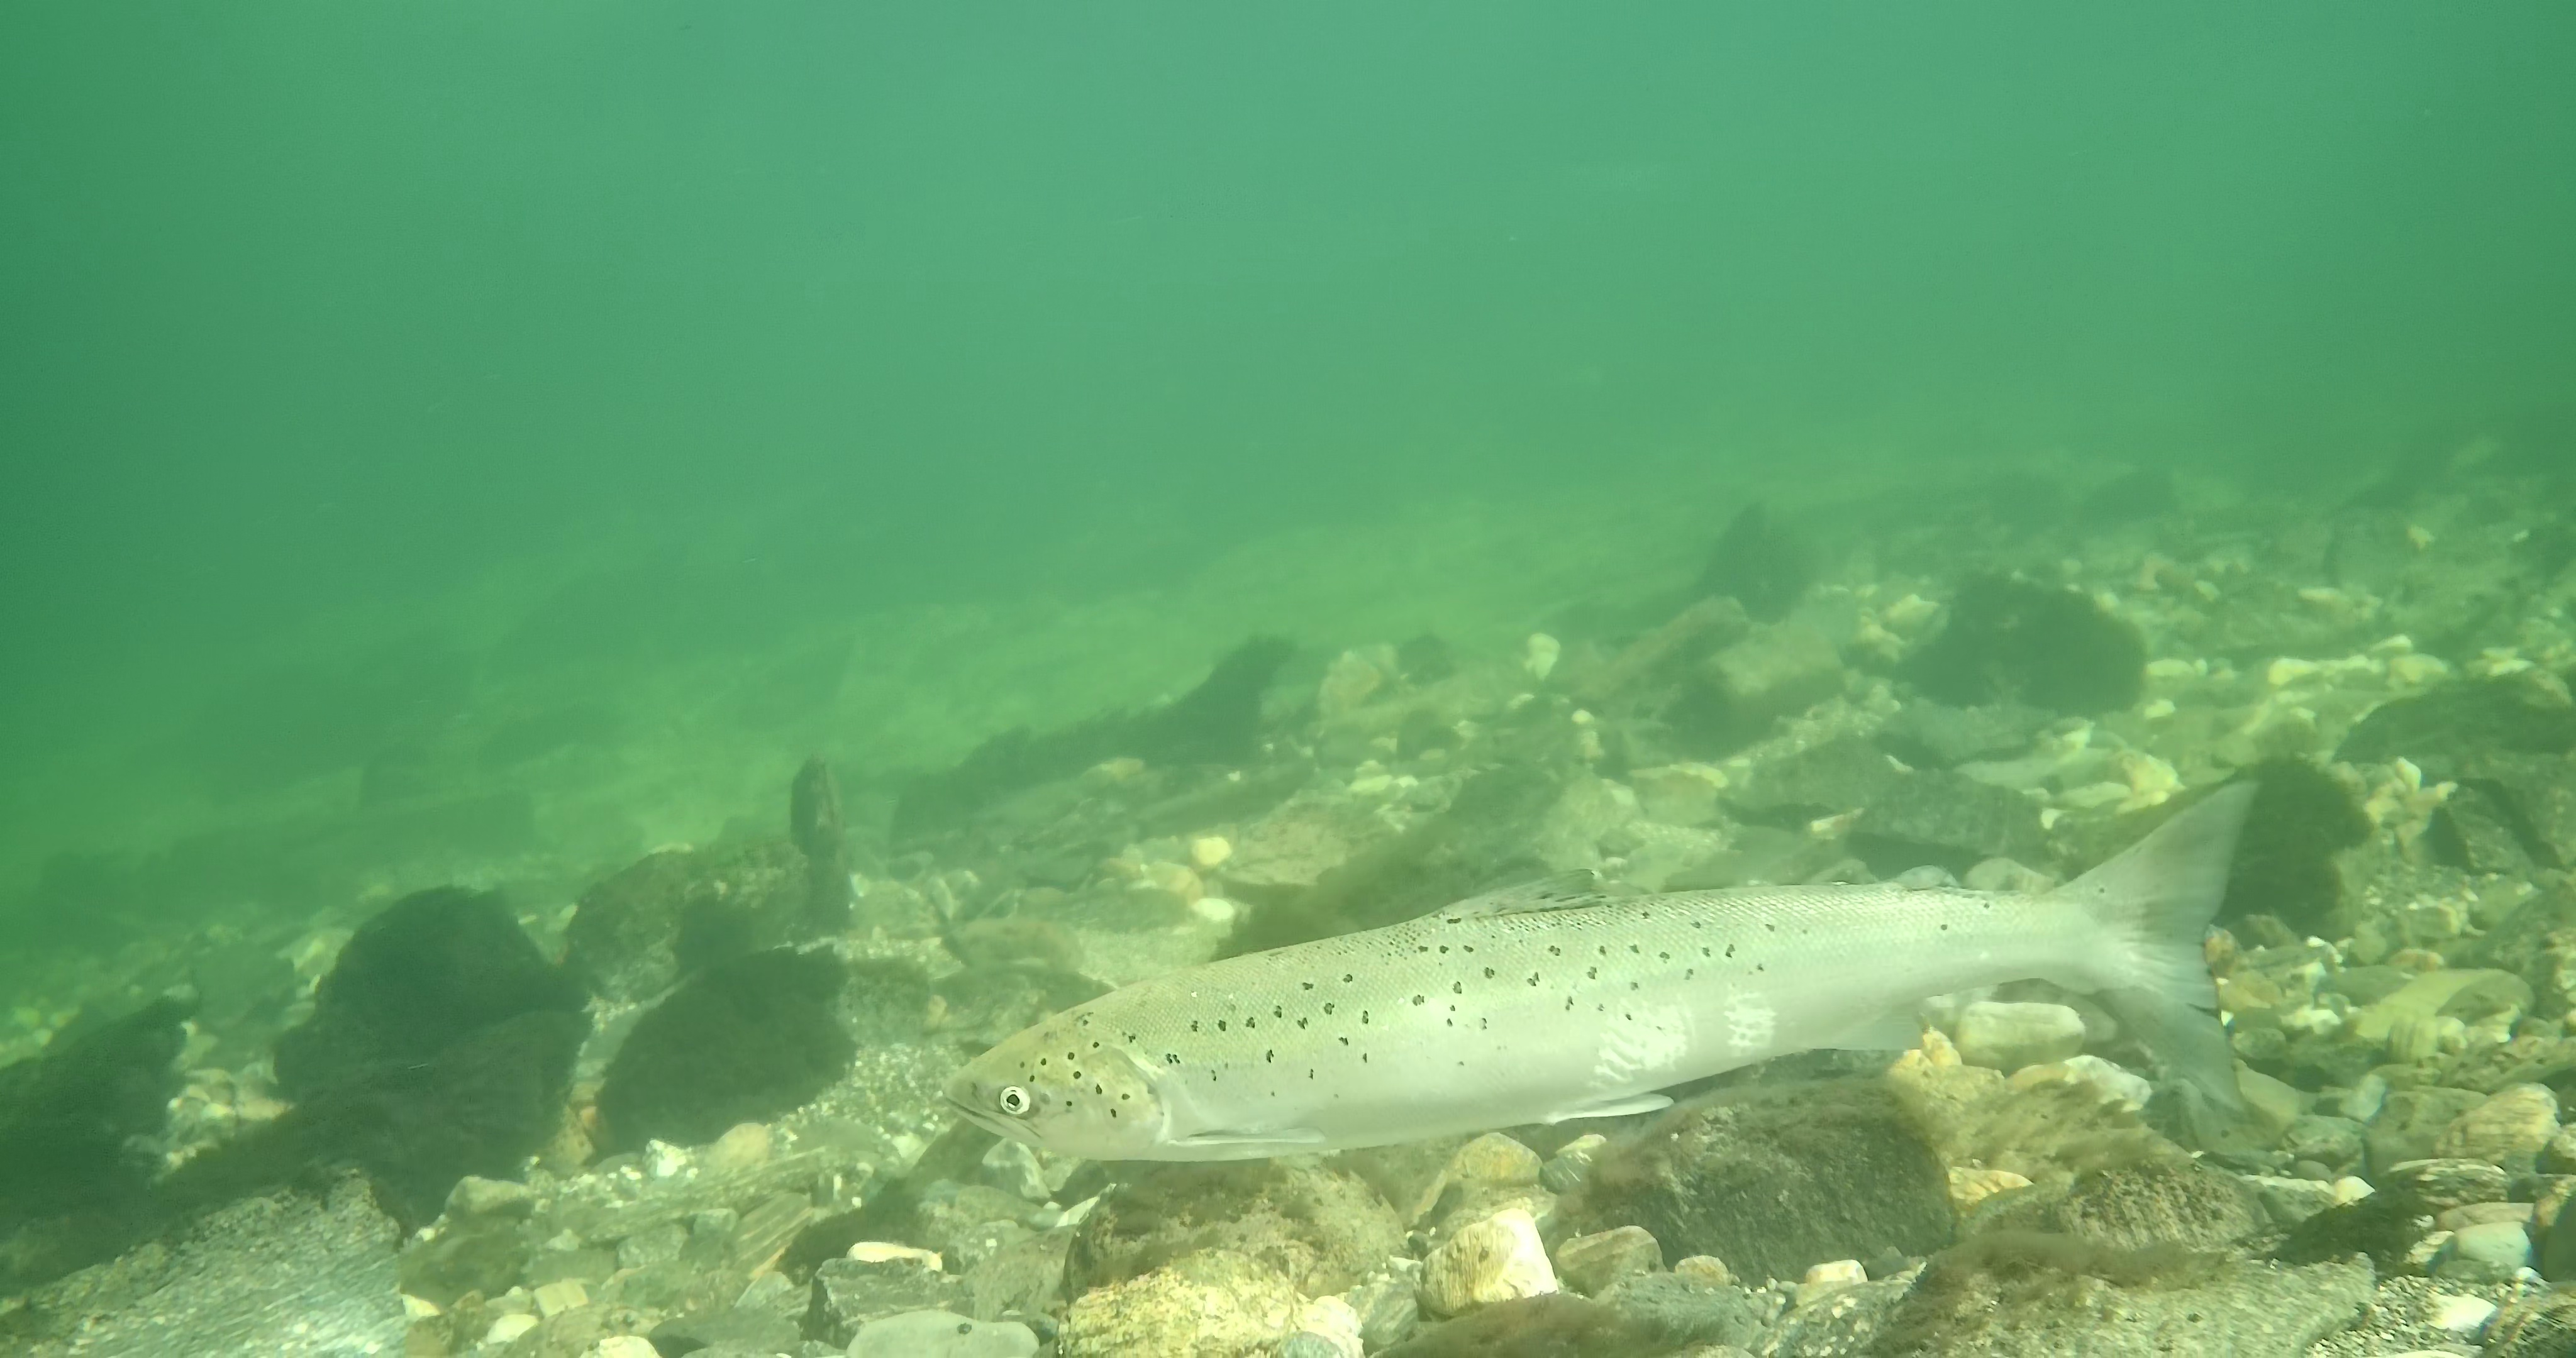salmon: (935, 779, 2261, 1169)
